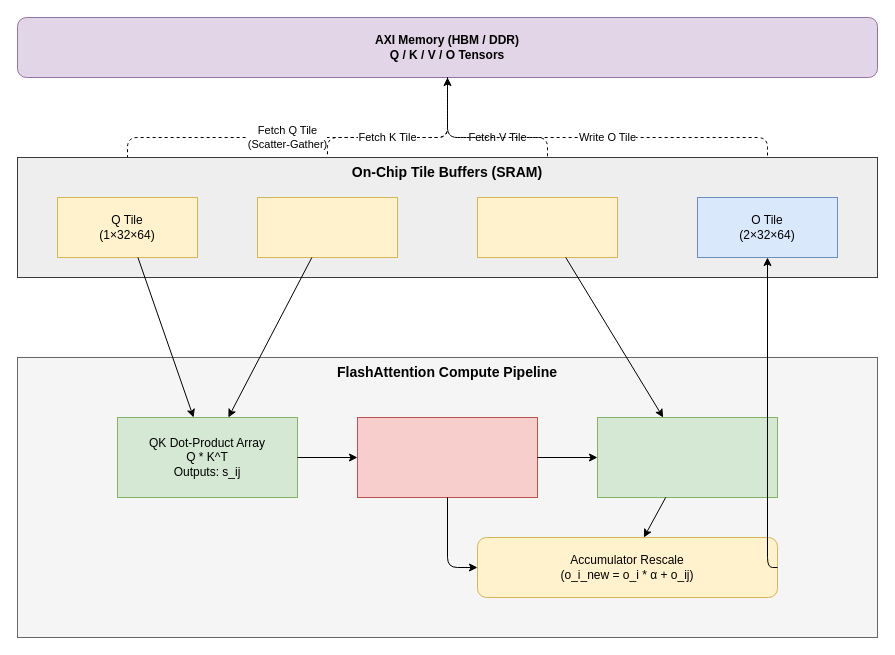
The diagram is 895 pixels wide and 655 high, and some of its shapes have lost their labels. Each missing label, with the centre of its shape:
"K Tile (2×64×64)" goes at [327,227].
"Online Softmax Context (exp, sum, scale) Outputs: p_ij" goes at [447,457].
"PV Dot-Product Array p_ij * V Outputs: o_i" goes at [687,457].
"V Tile (2×64×64)" goes at [547,227].
